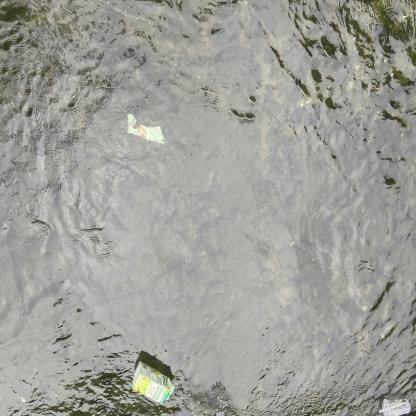Plastic: (124, 110, 168, 150), (375, 393, 416, 416)
